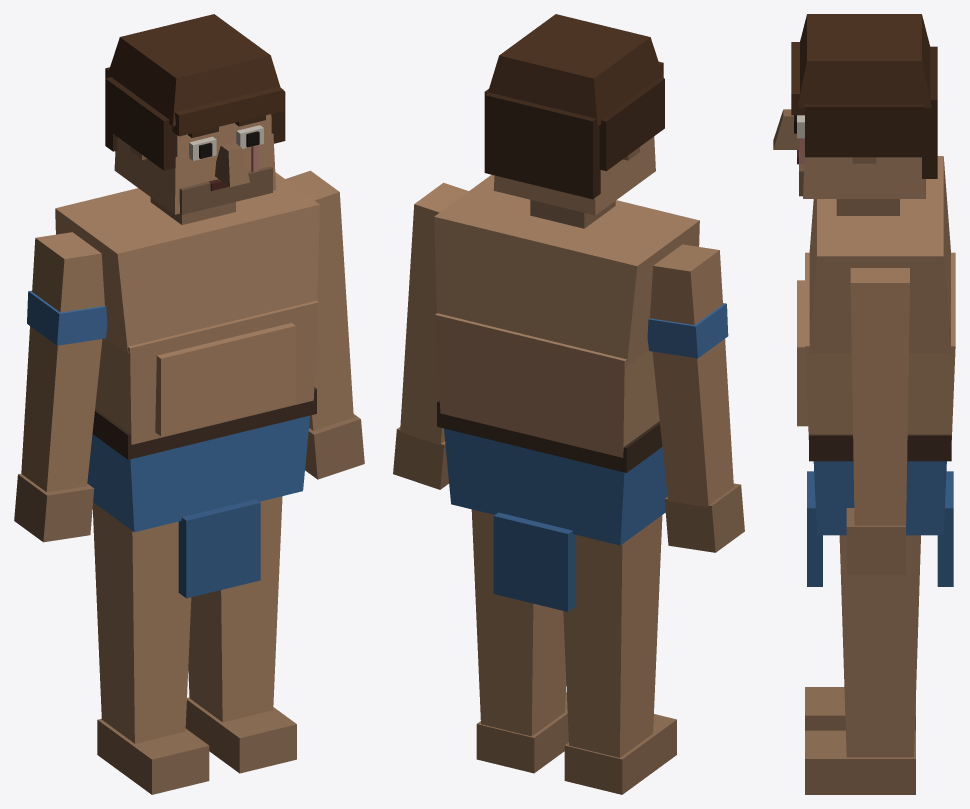
The model's file is fighter_B3.glb.
The picture shows the model from 3 angles, left to right: view 1: azimuth 30°, elevation 25°; view 2: azimuth 150°, elevation 25°; view 3: azimuth 270°, elevation 25°; orthographic projection.
Parts seen in each view (by area): view 1: torso, head, hips, leg_R, arm_R, leg_L, arm_L; view 2: torso, head, hips, leg_R, arm_R, leg_L, arm_L; view 3: head, torso, leg_L, arm_L, hips, leg_R.
Boxes of the visible parts, x1,y1,x2,y2 form: torso: (55, 172, 319, 444); head: (105, 14, 285, 224); hips: (87, 387, 316, 598); leg_R: (92, 502, 209, 794); arm_R: (14, 232, 107, 542); leg_L: (185, 496, 296, 773); arm_L: (285, 170, 364, 479); torso: (434, 174, 699, 457); head: (484, 14, 664, 228); hips: (437, 400, 667, 611); leg_R: (563, 515, 676, 794); arm_R: (647, 244, 744, 552); leg_L: (471, 509, 568, 773); arm_L: (393, 182, 468, 489); head: (773, 14, 937, 215); torso: (797, 156, 955, 439); leg_L: (805, 535, 920, 794); arm_L: (846, 268, 909, 575); hips: (807, 434, 953, 586); leg_R: (805, 687, 915, 730).
Size of the model in its own units: 0.9528 by 2.01 by 0.46.
